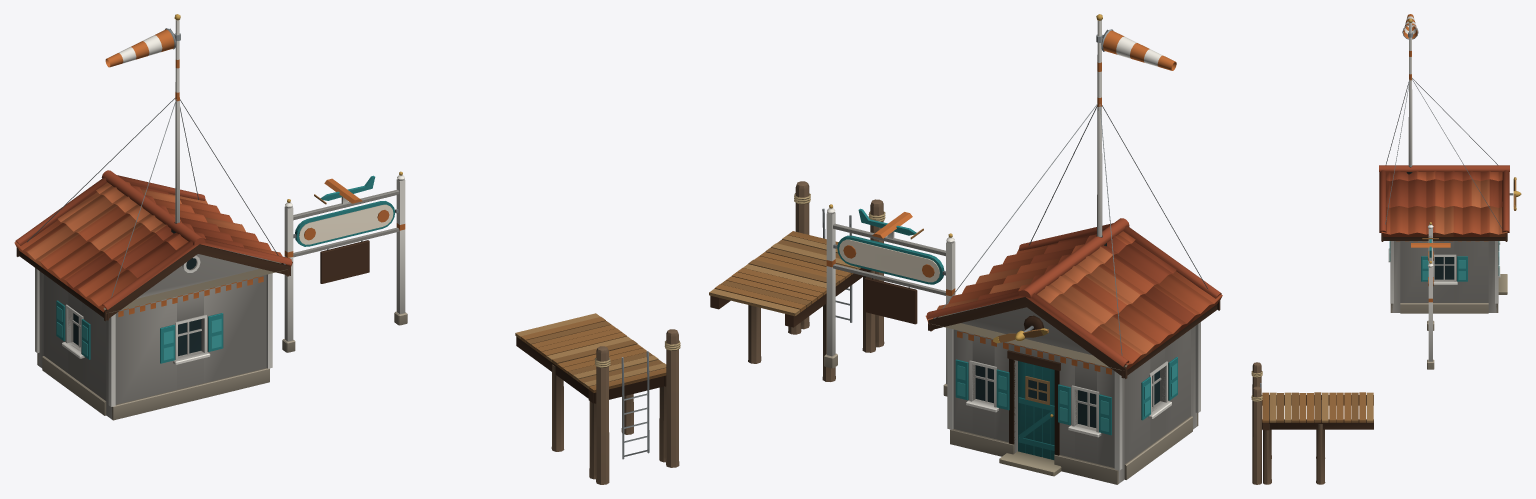
The model's file is pav_aeroclub.glb.
3 views of the same model, side by side, from view 1: azimuth 30°, elevation 25°; view 2: azimuth 150°, elevation 25°; view 3: azimuth 270°, elevation 25° (orthographic). The views are drawn at different scales.
Visible parts, largest first — view 1: static_aeroclub, live_aeroclub_windsock; view 2: static_aeroclub, live_aeroclub_windsock; view 3: static_aeroclub.
Boxes of the visible parts, x1,y1,x2,y2 form: static_aeroclub: (14,14,680,484); live_aeroclub_windsock: (105,28,176,67); static_aeroclub: (709,14,1222,484); live_aeroclub_windsock: (1101,29,1176,70); static_aeroclub: (1251,18,1513,484).
Bounding box in the file's own units: 10.9 × 9.94 × 7.37.
